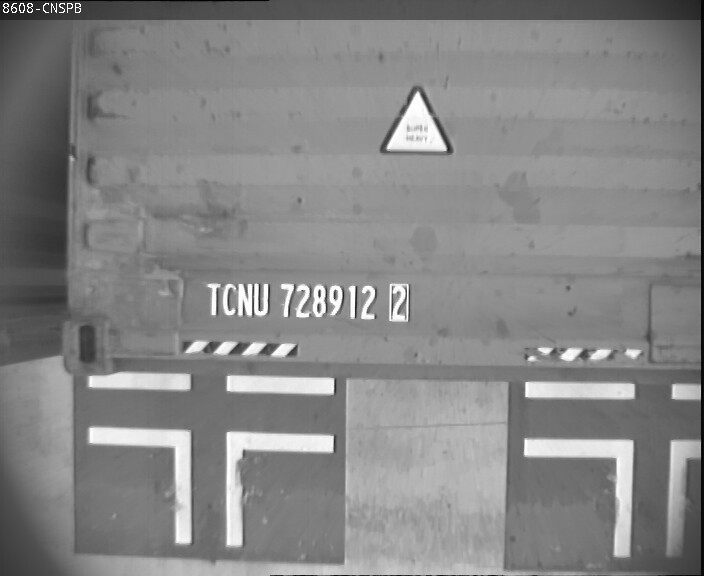groundmarker_1: (89, 425, 330, 544), (524, 438, 704, 556)
